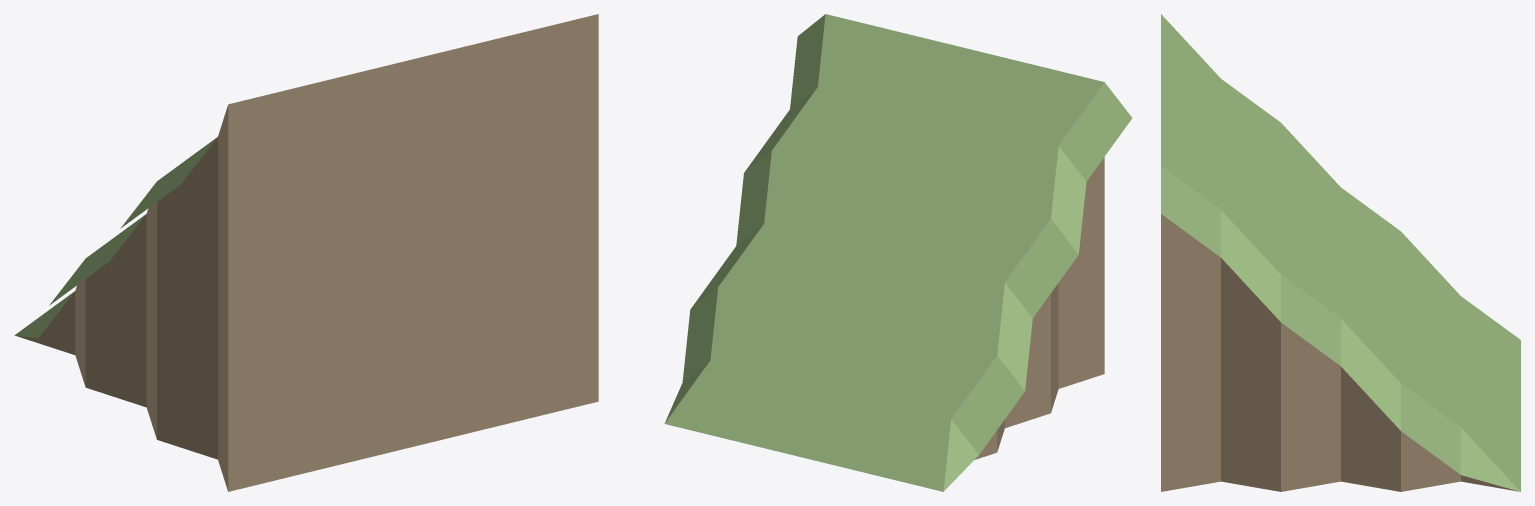
File: cliff_blockSlope_rock.glb
3 renders of one model, left to right at view 1: azimuth 30°, elevation 25°; view 2: azimuth 150°, elevation 25°; view 3: azimuth 270°, elevation 25°, orthographic. The views are drawn at different scales.
Parts seen in each view (by area): view 1: cliff_blockSlope_rock; view 2: cliff_blockSlope_rock; view 3: cliff_blockSlope_rock.
Part boxes in pixels (x1,y1,x2,y2): cliff_blockSlope_rock: (14,14,598,491); cliff_blockSlope_rock: (664,14,1132,491); cliff_blockSlope_rock: (1161,14,1520,491).
Bounding box in the file's own units: 1.2 × 1 × 1.
